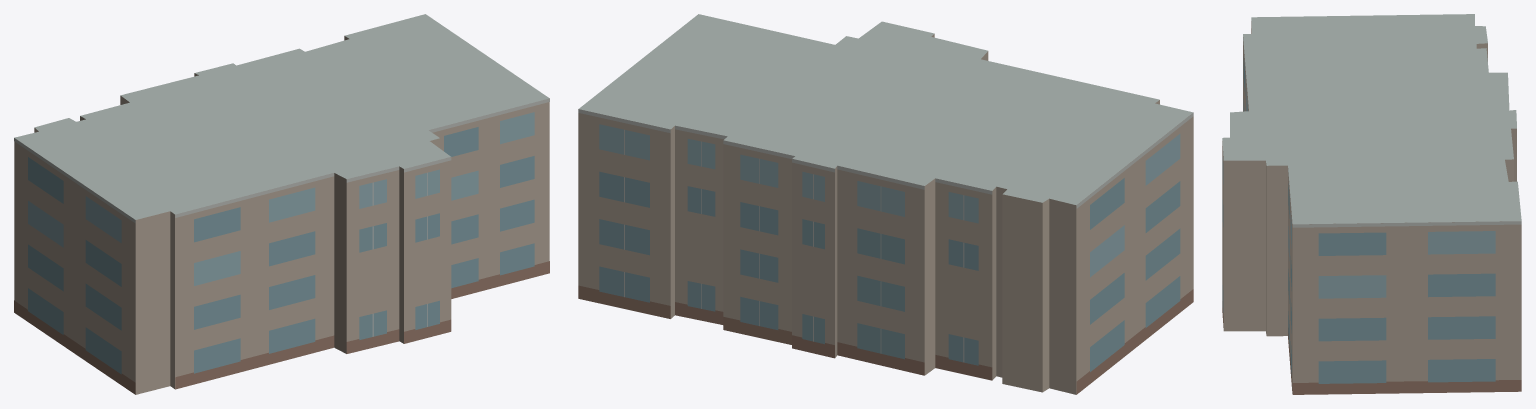
File: survey-upis-32835648.glb
The picture shows the model from 3 angles, left to right: view 1: azimuth 30°, elevation 25°; view 2: azimuth 150°, elevation 25°; view 3: azimuth 270°, elevation 25°; orthographic projection. The views are drawn at different scales.
Parts seen in each view (by area): view 1: survey-upis-32835648.tmp; view 2: survey-upis-32835648.tmp; view 3: survey-upis-32835648.tmp.
Boxes of the visible parts, x1=… form: survey-upis-32835648.tmp: x1=14, y1=14, x2=549, y2=394; survey-upis-32835648.tmp: x1=578, y1=14, x2=1193, y2=394; survey-upis-32835648.tmp: x1=1222, y1=14, x2=1521, y2=394.
Size of the model in its own units: 32.28 by 12.2 by 19.42.
